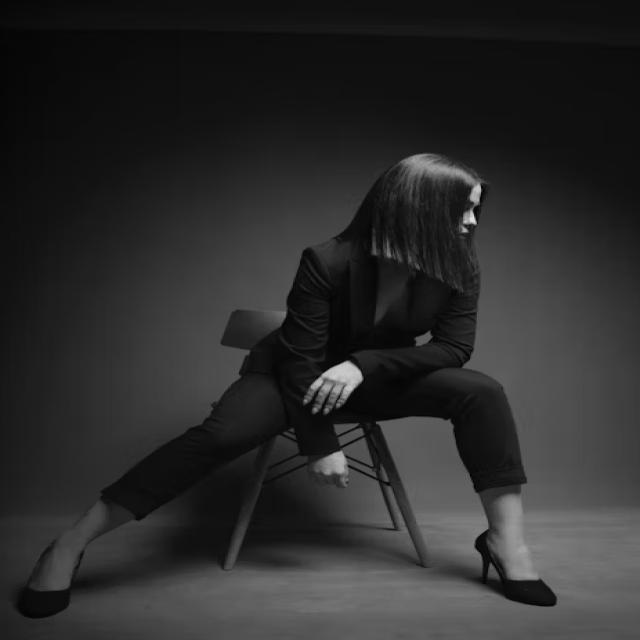Edited images: (26, 148, 568, 624)
